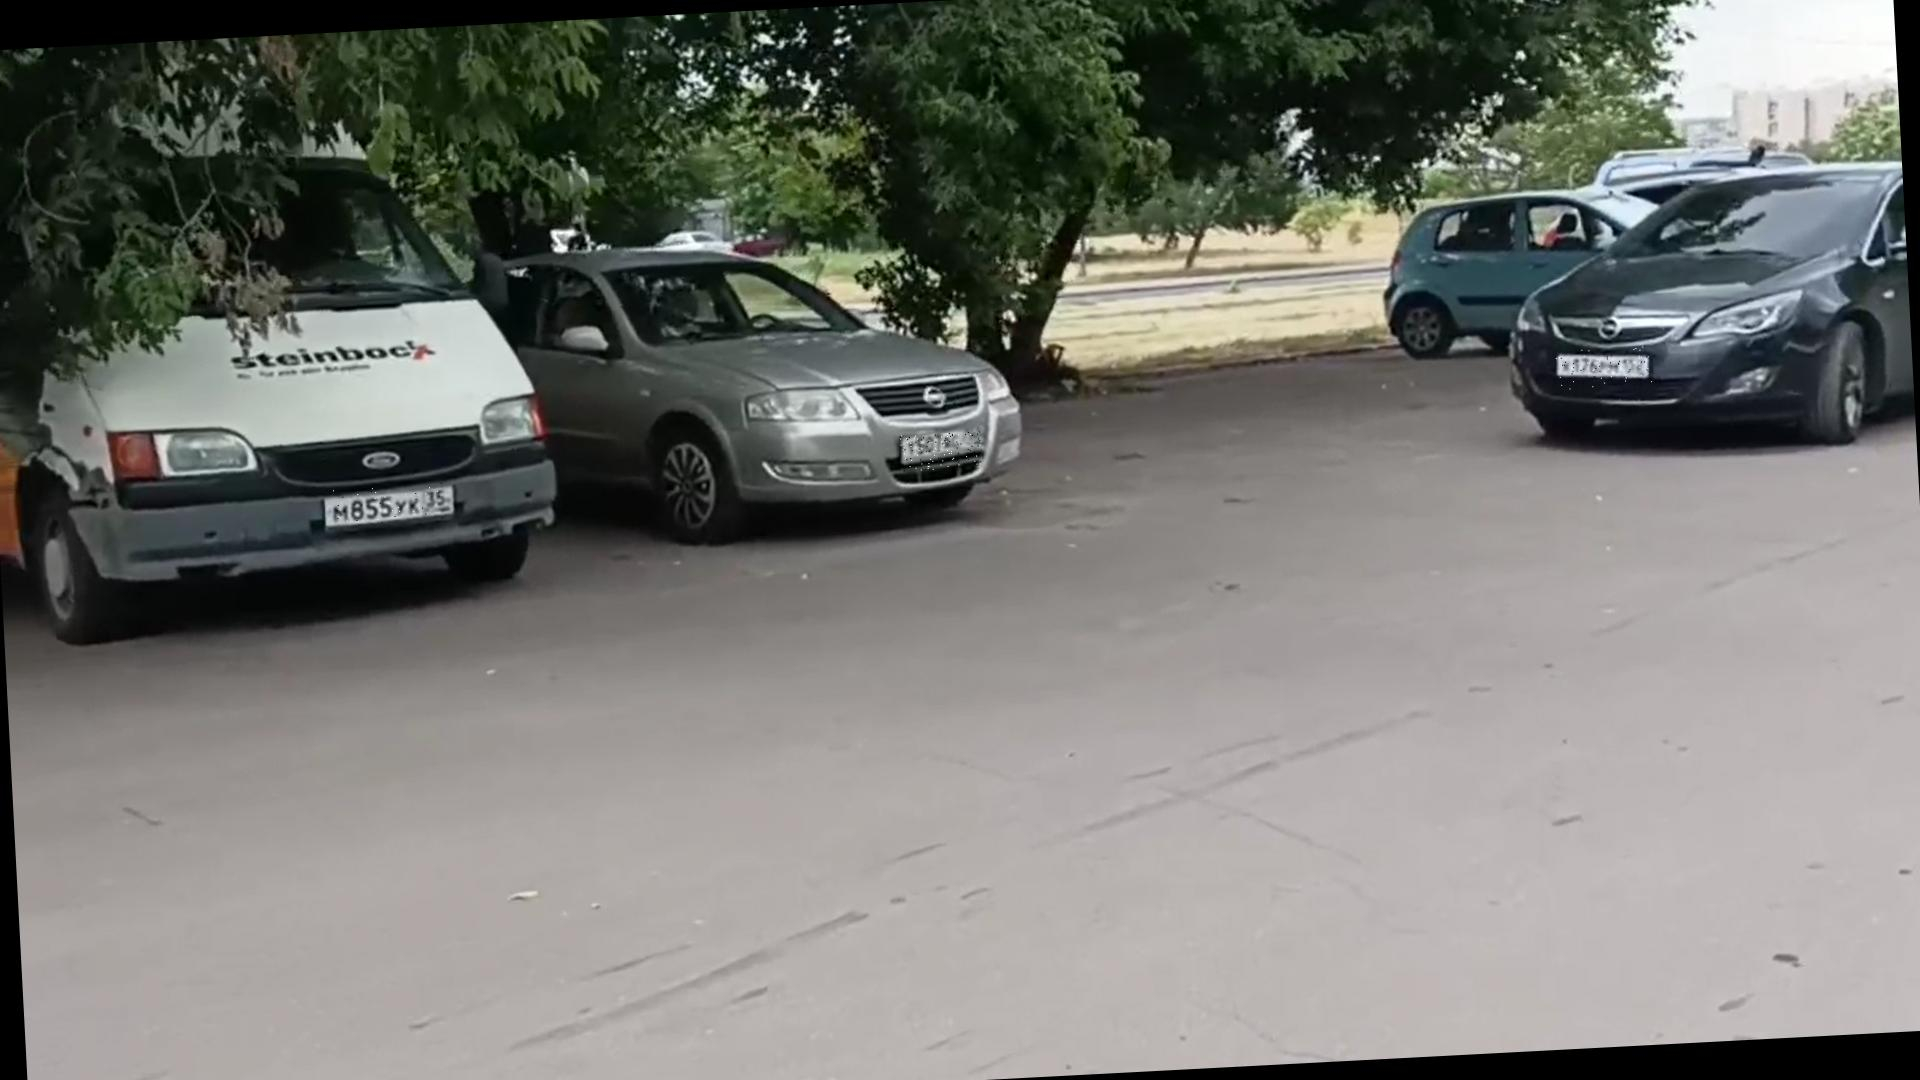plate: (325, 483, 449, 526), (1557, 347, 1654, 392), (901, 433, 985, 473)
